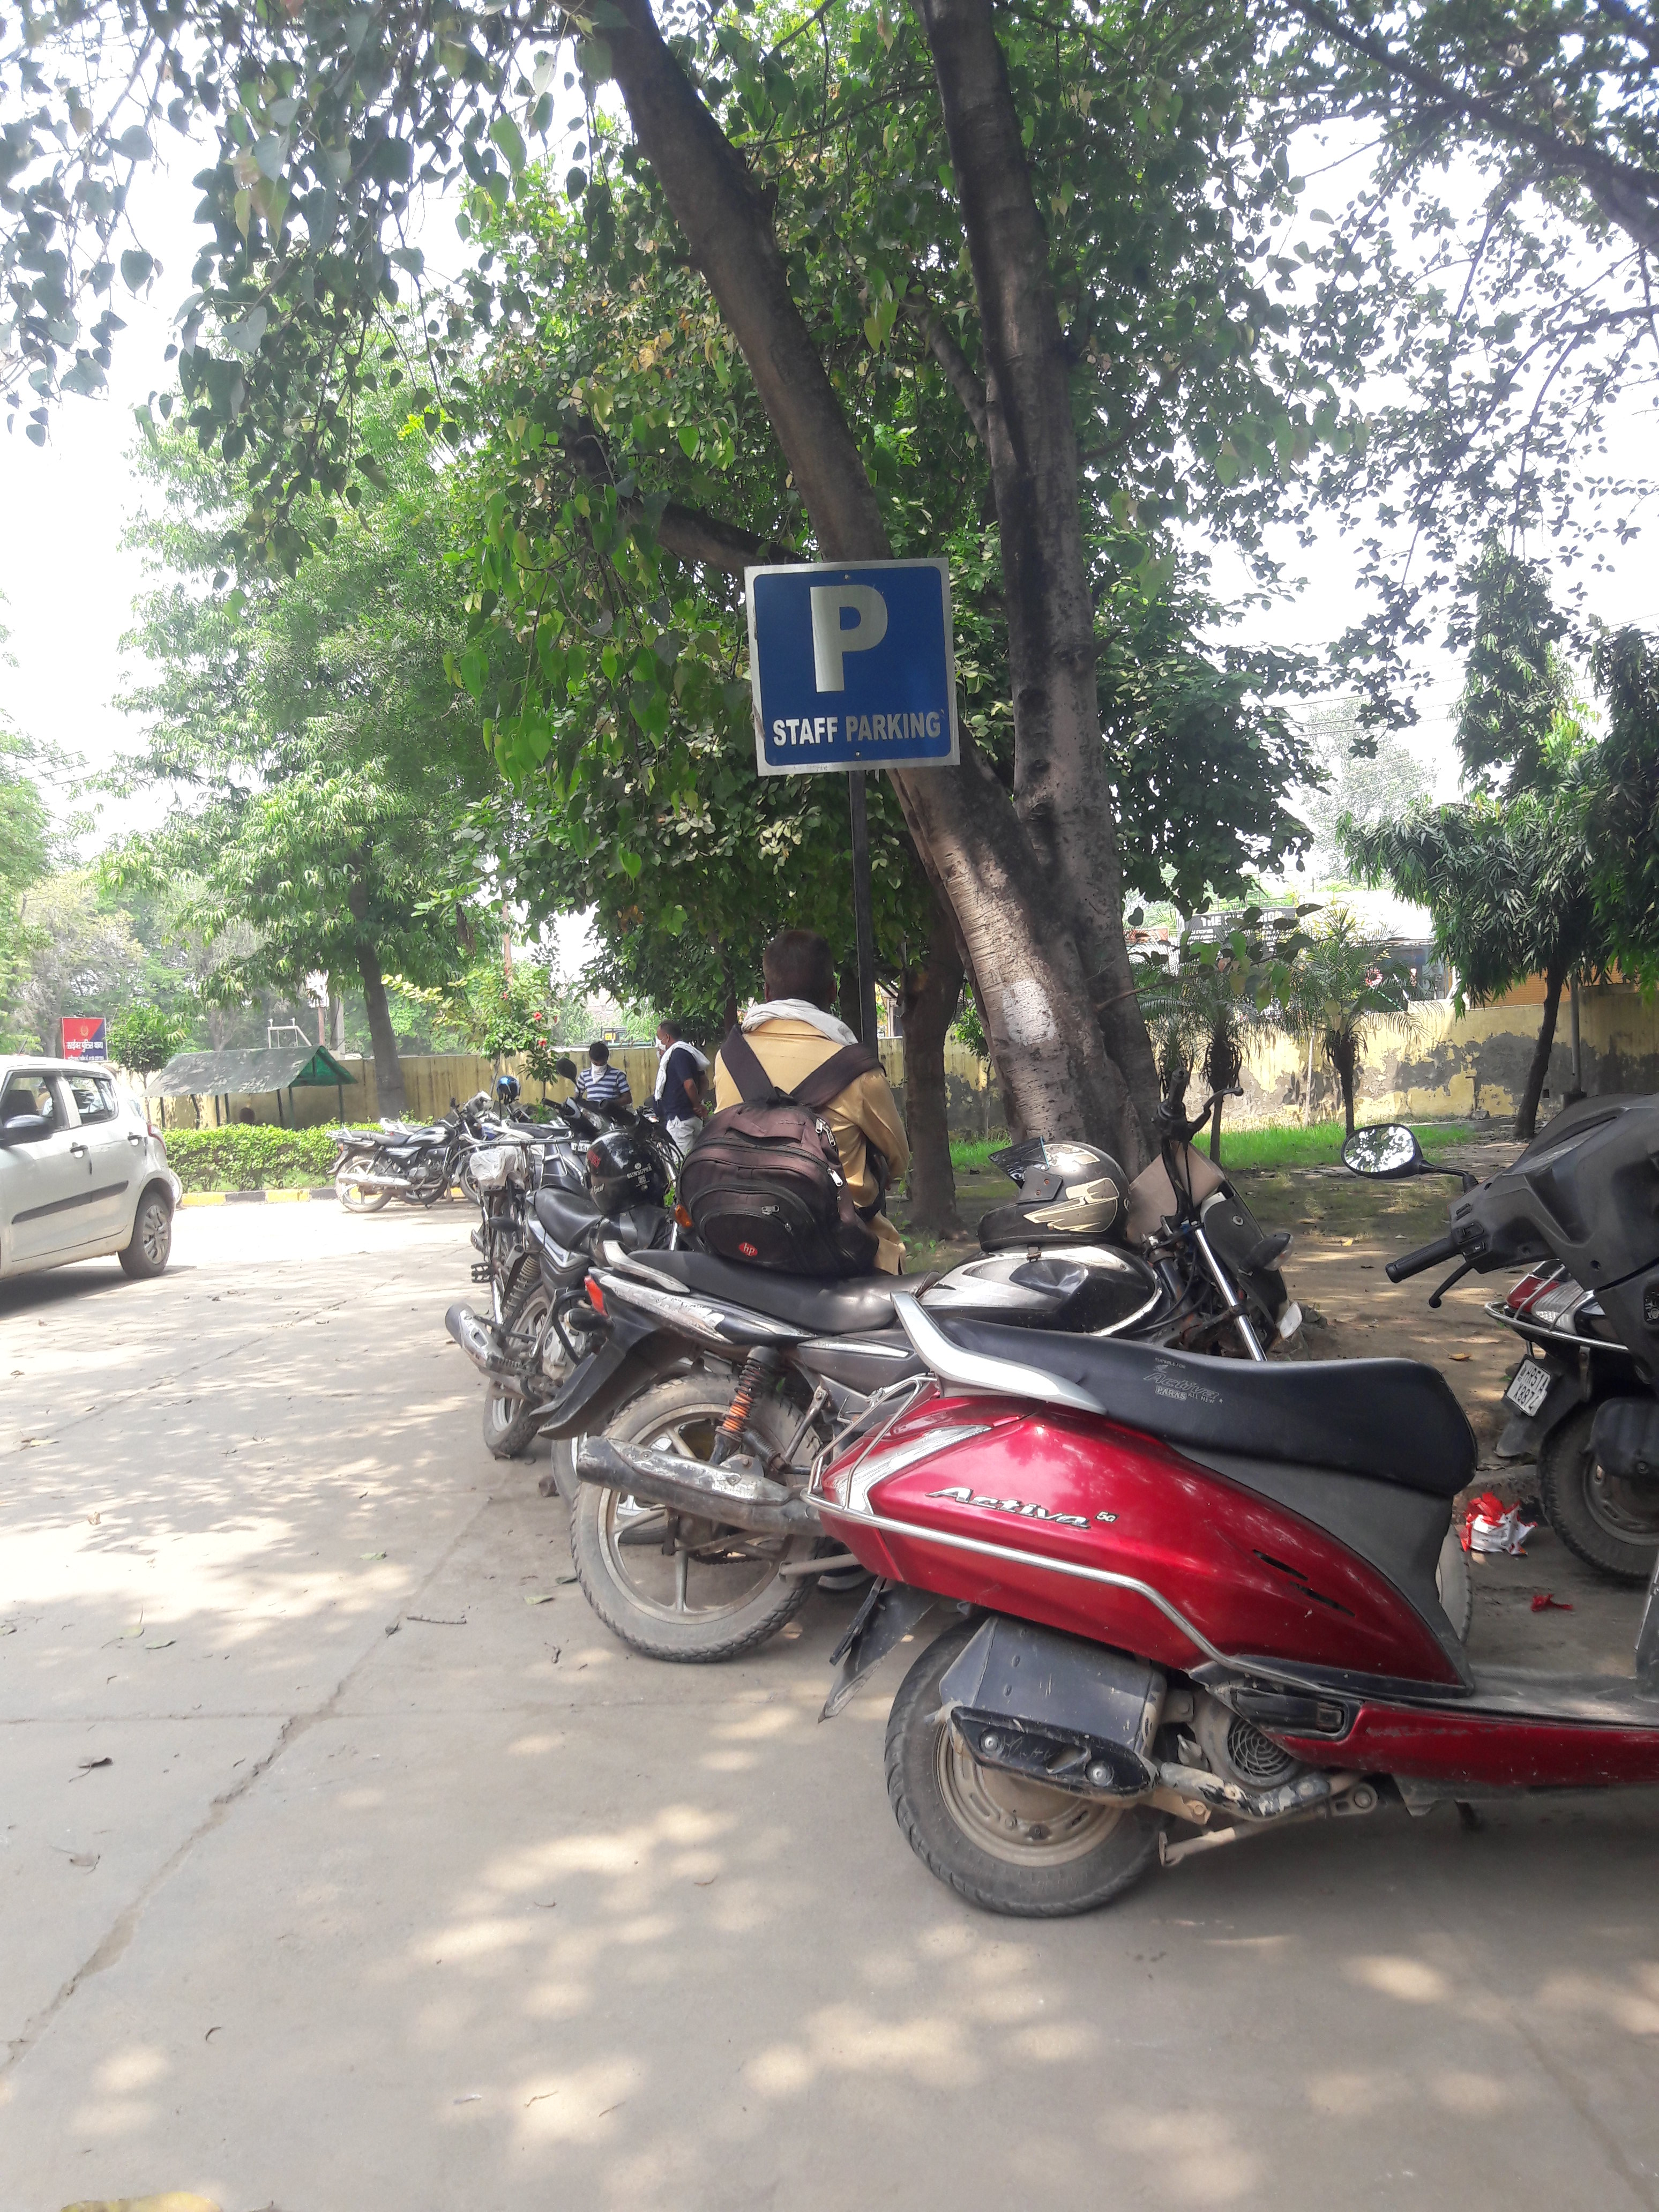traffic_sign: (746, 557, 960, 780)
